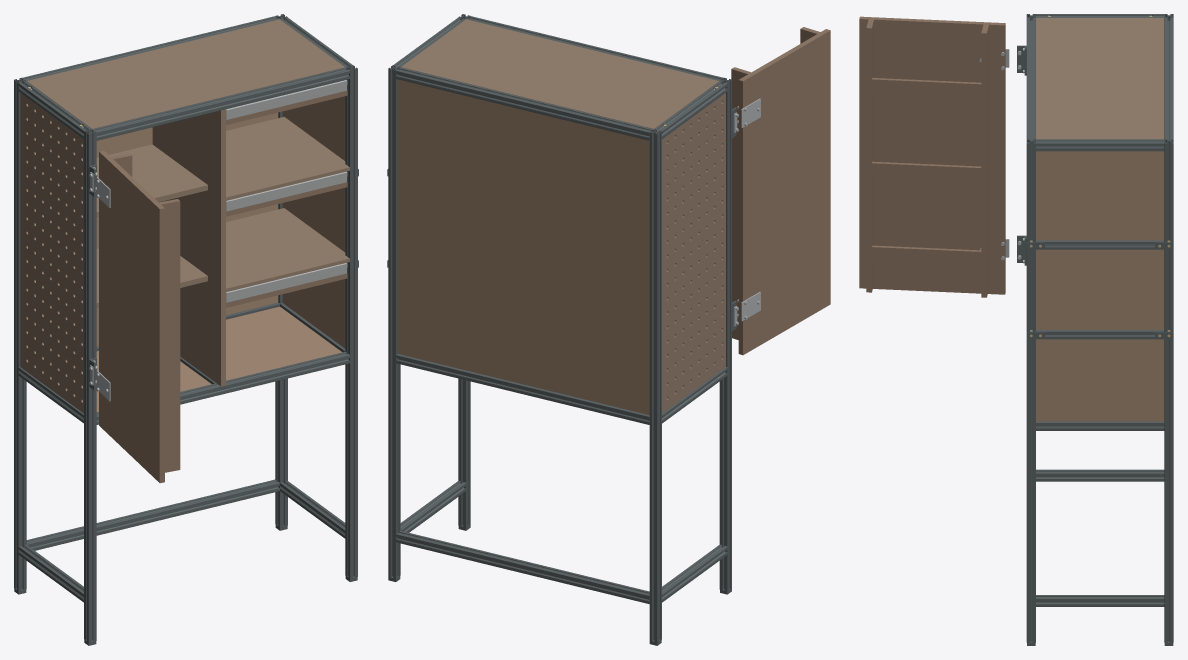
File: cabinet-open.glb
3 views of the same model, side by side, from view 1: azimuth 30°, elevation 25°; view 2: azimuth 150°, elevation 25°; view 3: azimuth 270°, elevation 25° (orthographic).
Visible parts, largest first — view 1: Door-face-18, Left-pegboard-18, Top-18, Center-18, Shelf-Right-2, Shelf-Right-1, Post-966-23, Post-4-23, Floor-Right-8, Post-4-470, Door-inner-meeting-18, Beam-top-front (+22 smaller); view 2: Back-infill-8, Door-face-18, Left-pegboard-18, Top-18, Post-4-470, Post-966-470, Post-4-23, Beam-top-rear, Beam-lower-rear, Beam-body-rear, Post-966-23, Door-inner-hinge-18 (+5 smaller); view 3: Door-face-18, Top-18, Right-infill-8-3, Right-infill-8-1, Right-infill-8-2, Post-966-470, Post-966-23, Door-inner-hinge-18, Door-inner-meeting-18, Beam-lower-side-4, Beam-top-side-966, Beam-lower-side-966 (+9 smaller).
Part boxes in pixels (left/top/right/bottom): Door-face-18: left=99, top=151, right=164, bottom=483; Left-pegboard-18: left=20, top=93, right=83, bottom=413; Top-18: left=27, top=19, right=344, bottom=128; Center-18: left=152, top=109, right=225, bottom=386; Shelf-Right-2: left=226, top=117, right=349, bottom=200; Shelf-Right-1: left=226, top=208, right=349, bottom=291; Post-966-23: left=345, top=65, right=357, bottom=578; Post-4-23: left=84, top=129, right=96, bottom=642; Floor-Right-8: left=226, top=306, right=341, bottom=380; Post-4-470: left=14, top=77, right=26, bottom=591; Door-inner-meeting-18: left=159, top=199, right=180, bottom=472; Beam-top-front: left=92, top=67, right=349, bottom=140; Back-infill-8: left=397, top=79, right=649, bottom=415; Door-face-18: left=738, top=29, right=830, bottom=355; Left-pegboard-18: left=662, top=93, right=725, bottom=413; Top-18: left=401, top=19, right=719, bottom=128; Post-4-470: left=649, top=129, right=661, bottom=642; Post-966-470: left=388, top=65, right=400, bottom=578; Post-4-23: left=719, top=77, right=731, bottom=591; Beam-top-rear: left=396, top=67, right=653, bottom=140; Beam-lower-rear: left=396, top=531, right=649, bottom=604; Beam-body-rear: left=396, top=354, right=649, bottom=424; Post-966-23: left=458, top=14, right=470, bottom=527; Door-inner-hinge-18: left=731, top=67, right=750, bottom=339; Door-face-18: left=859, top=16, right=1005, bottom=294; Top-18: left=1036, top=18, right=1164, bottom=139; Right-infill-8-3: left=1036, top=151, right=1164, bottom=240; Right-infill-8-1: left=1036, top=339, right=1164, bottom=421; Right-infill-8-2: left=1036, top=249, right=1164, bottom=329; Post-966-470: left=1164, top=139, right=1173, bottom=642; Post-966-23: left=1026, top=139, right=1035, bottom=642; Door-inner-hinge-18: left=981, top=24, right=988, bottom=297; Door-inner-meeting-18: left=866, top=19, right=873, bottom=292; Beam-lower-side-4: left=1036, top=469, right=1164, bottom=481; Beam-top-side-966: left=1036, top=139, right=1164, bottom=151; Beam-lower-side-966: left=1036, top=595, right=1164, bottom=606.
Bounding box in the file's own units: 1.05 × 1.8 × 1.02.
